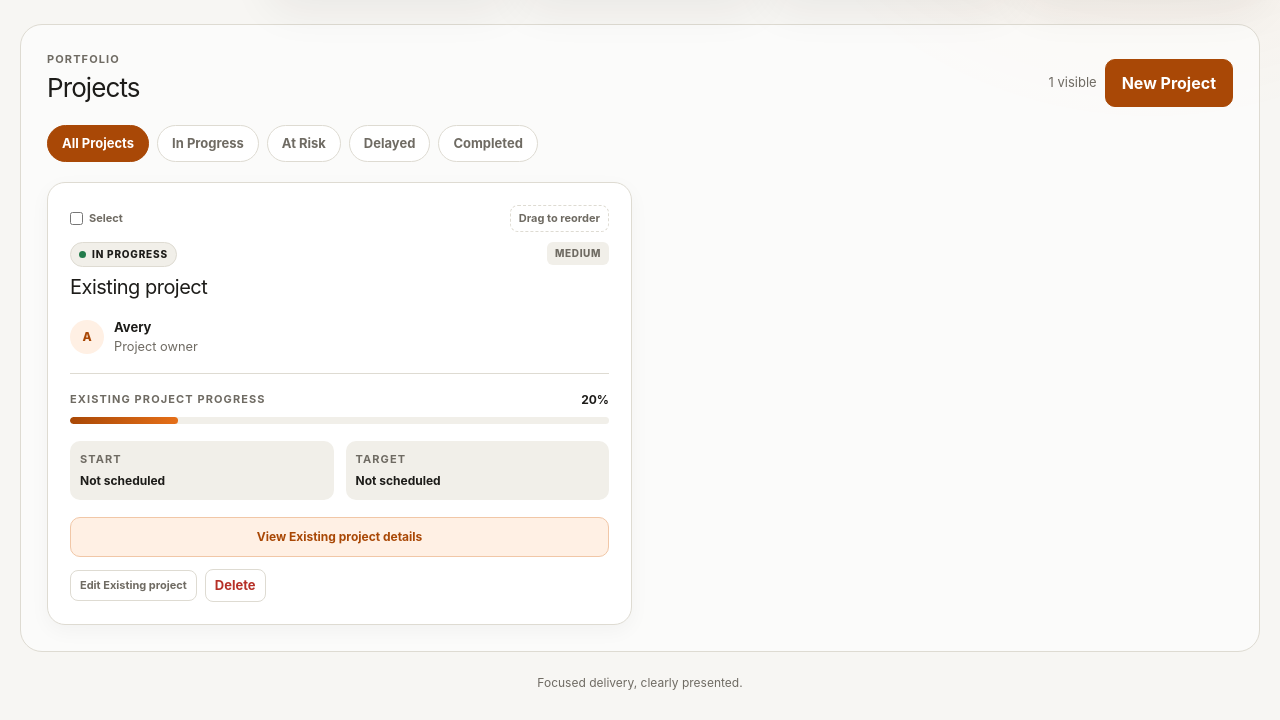
admin dashboard controls › refreshes a stale subtask delete without replaying it
The width and height of the screenshot is (1280, 720).
(page scrolled)
Click the button "View Existing project details": [340, 537] box [70,517,609,557]
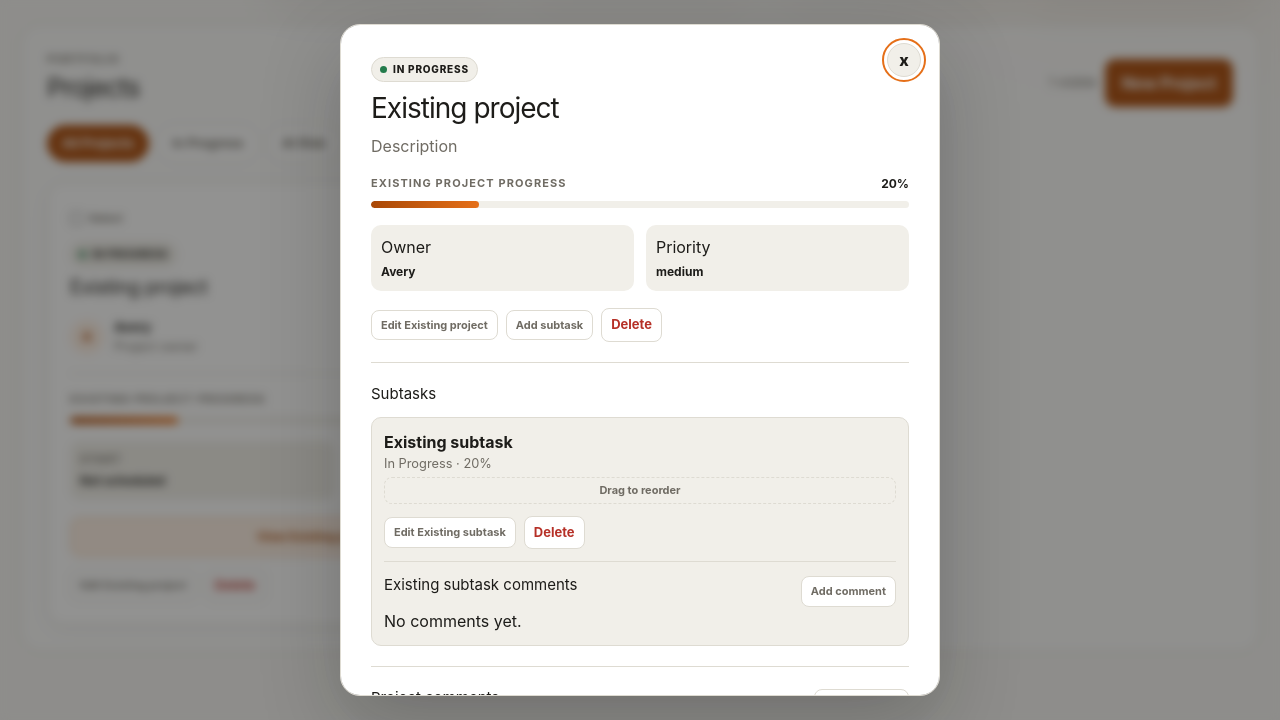
Click the button with aria-label "Delete Existing subtask": [554, 533] box [524,516,585,549]
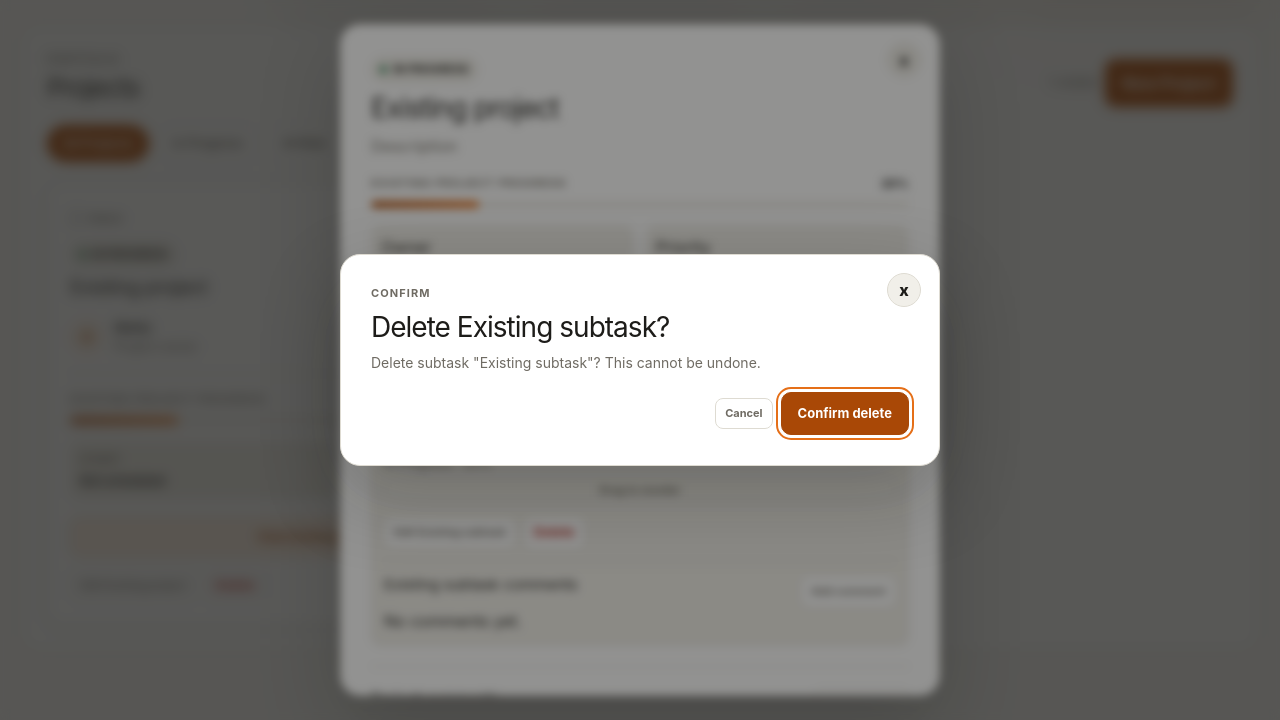
Click the button "Confirm delete": [845, 413] box [781,392,909,435]
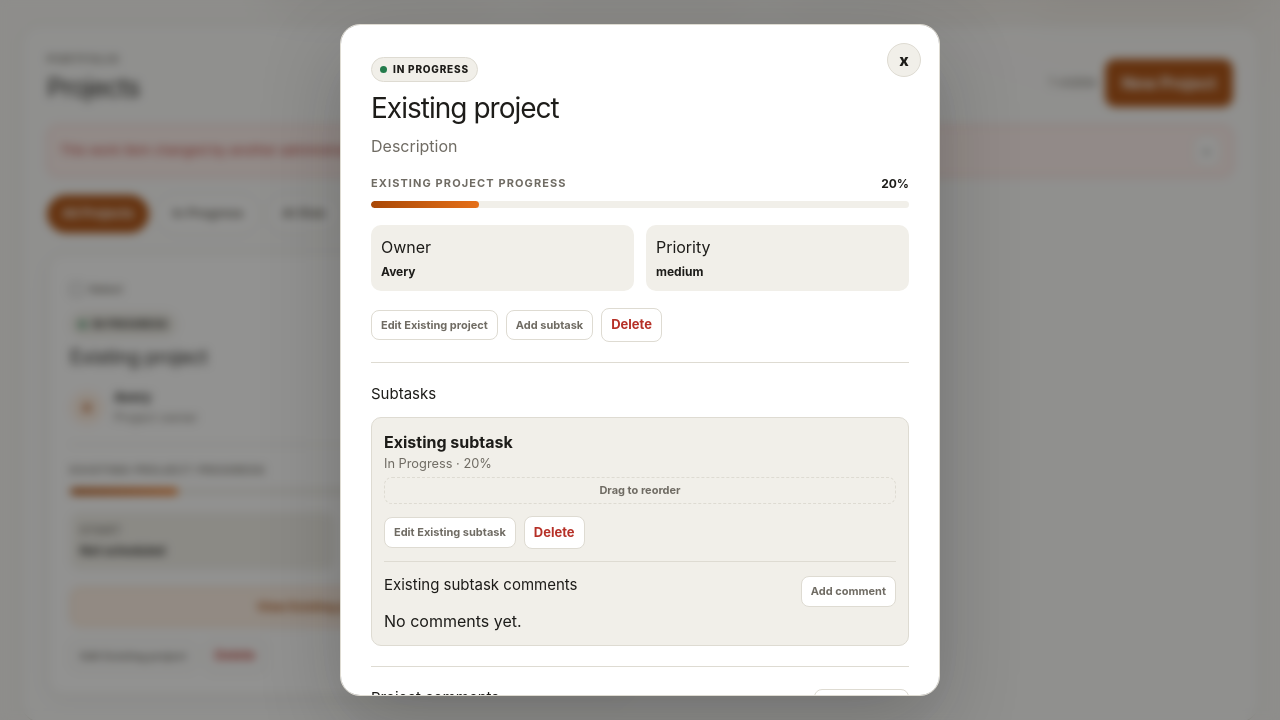
Result: the text "changed by another administrator" is shown at [60,142,524,158]
